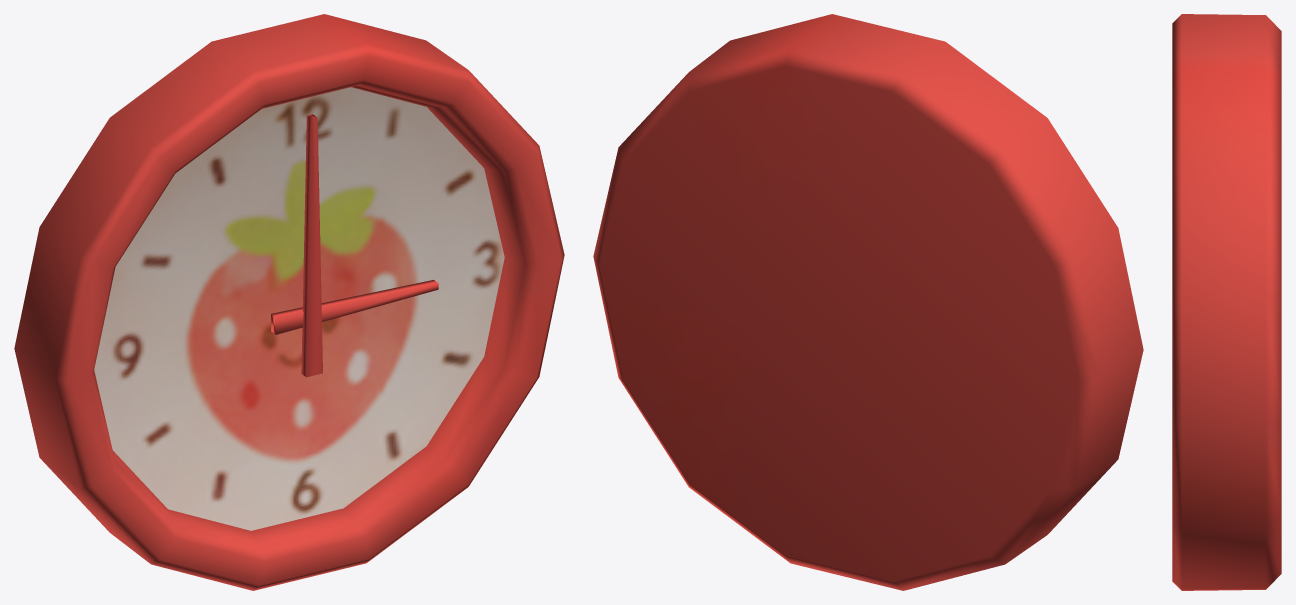
File: Homestead_cm_19.fbx
3 views of the same model, side by side, from view 1: azimuth 30°, elevation 25°; view 2: azimuth 150°, elevation 25°; view 3: azimuth 270°, elevation 25° (orthographic).
Visible parts, largest first — view 1: Homestead_cm_19; view 2: Homestead_cm_19; view 3: Homestead_cm_19.
Boxes of the visible parts, box(x1,y1,x2,y2) form: Homestead_cm_19: box(14, 14, 564, 590); Homestead_cm_19: box(593, 14, 1143, 590); Homestead_cm_19: box(1172, 14, 1281, 590).
Bounding box in the file's own units: 74.7 × 72.83 × 13.83.
